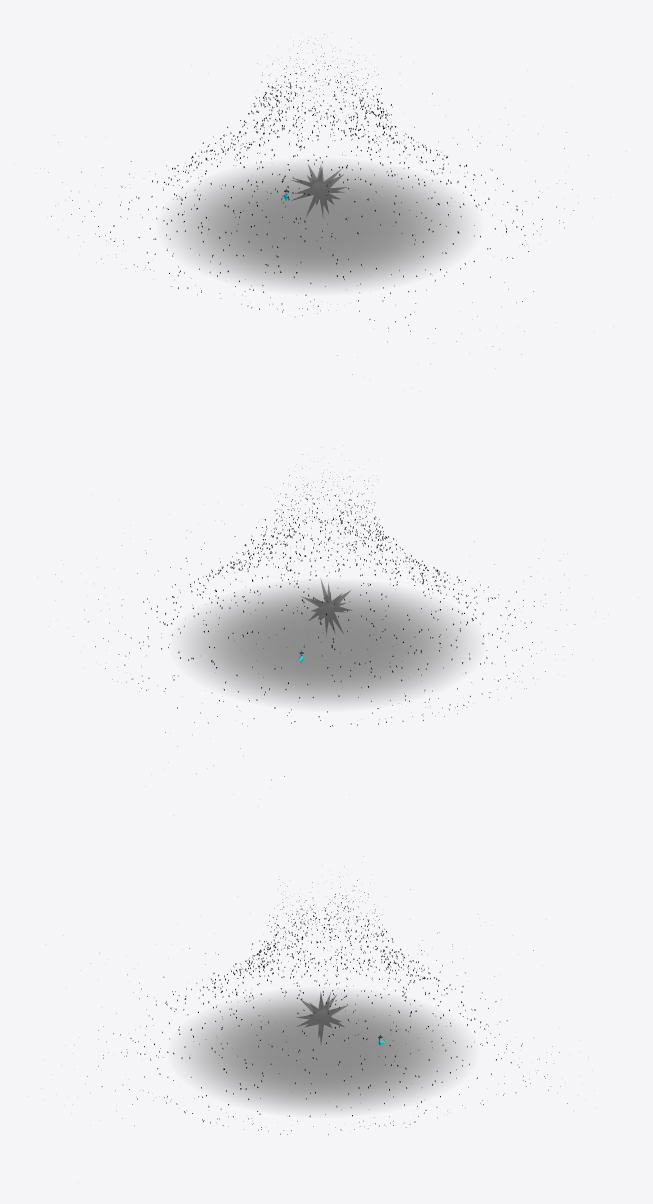
The picture shows the model from 3 angles, top to bottom: view 1: azimuth 30°, elevation 25°; view 2: azimuth 150°, elevation 25°; view 3: azimuth 270°, elevation 25°; orthographic projection. The views are drawn at different scales.
Parts seen in each view (by area): view 1: Plane001, Mesher001, GeoSphere001; view 2: Plane001, Mesher001, GeoSphere001; view 3: Plane001, Mesher001, GeoSphere001.
Boxes of the visible parts, box(x1,y1,x2,y2) form: Plane001: box(167, 162, 471, 290); Mesher001: box(48, 34, 594, 374); GeoSphere001: box(291, 164, 346, 216); Plane001: box(180, 582, 474, 706); Mesher001: box(55, 468, 574, 780); GeoSphere001: box(302, 580, 351, 634); Plane001: box(178, 991, 468, 1113); Mesher001: box(87, 880, 567, 1134); GeoSphere001: box(297, 992, 347, 1042).
Size of what is drawn, in the model's own units: 2529 by 1053 by 2538.
Materials: 6 (1 with a texture image).
